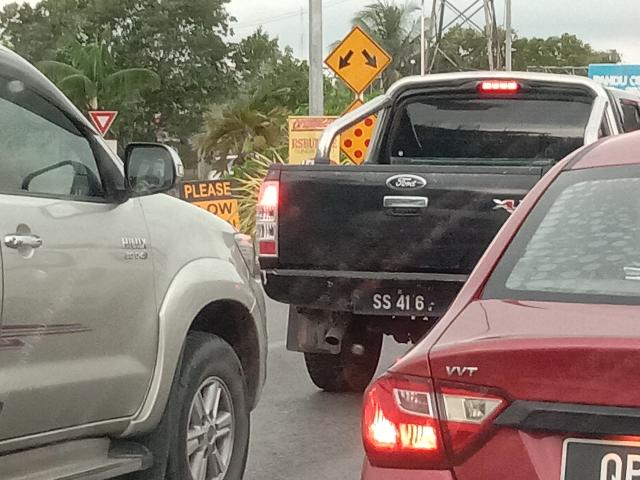License_Plate: (357, 291, 440, 314)
car: (2, 49, 291, 480), (264, 62, 628, 389), (363, 131, 640, 480)
